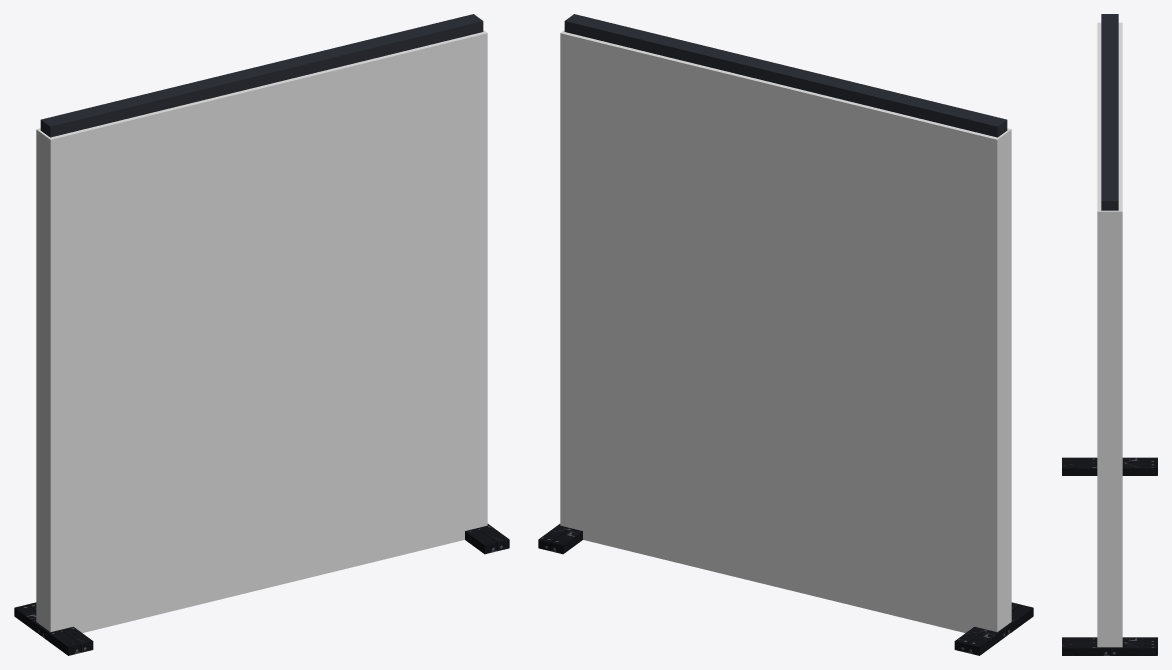
File: Furn_Divider_Neon.001.gltf
The picture shows the model from 3 angles, left to right: view 1: azimuth 30°, elevation 25°; view 2: azimuth 150°, elevation 25°; view 3: azimuth 270°, elevation 25°; orthographic projection. The views are drawn at different scales.
Parts seen in each view (by area): view 1: Furn_Divider_Neon.001_COL, Furn_Divider_Neon.001; view 2: Furn_Divider_Neon.001_COL, Furn_Divider_Neon.001; view 3: Furn_Divider_Neon.001_COL, Furn_Divider_Neon.001.
Boxes of the visible parts, left/top/right/bottom form: Furn_Divider_Neon.001_COL: left=36, top=30, right=487, bottom=632; Furn_Divider_Neon.001: left=14, top=14, right=509, bottom=655; Furn_Divider_Neon.001_COL: left=560, top=30, right=1011, bottom=632; Furn_Divider_Neon.001: left=538, top=14, right=1033, bottom=655; Furn_Divider_Neon.001_COL: left=1097, top=22, right=1122, bottom=647; Furn_Divider_Neon.001: left=1062, top=14, right=1157, bottom=655.
Bounding box in the file's own units: 2.12 × 2.35 × 0.45.
5 materials, 1 textured.
